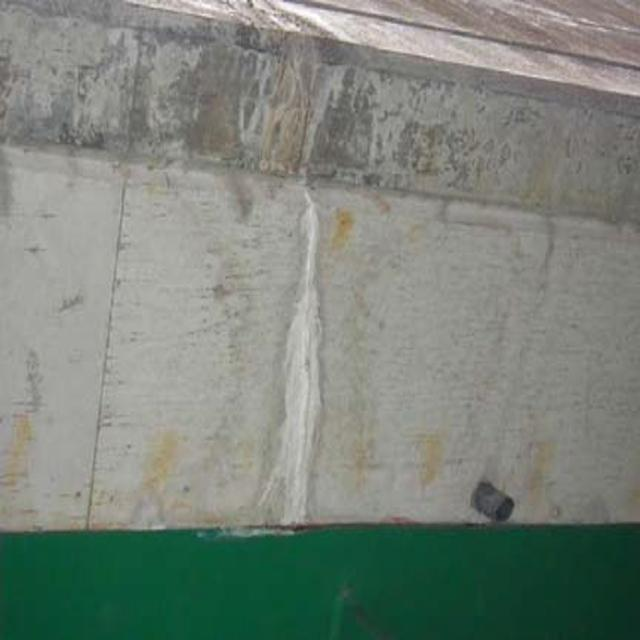freelime: (272, 196, 337, 521)
